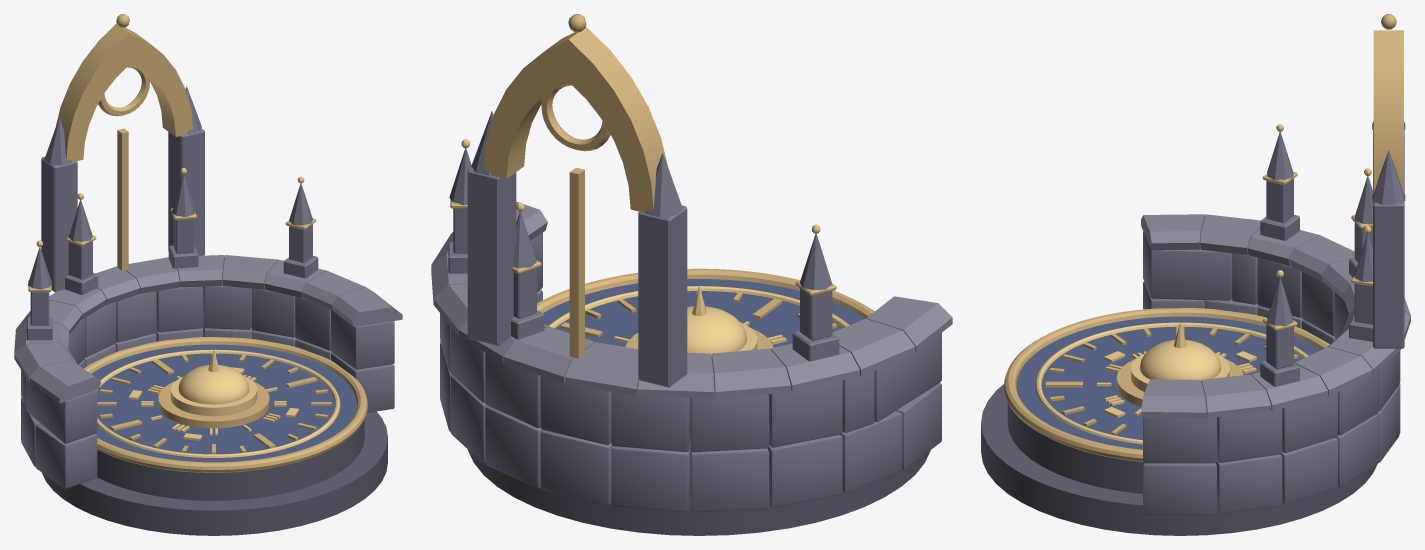
Rendered from Station.fbx.
3 views of the same model, side by side, from view 1: azimuth 30°, elevation 25°; view 2: azimuth 150°, elevation 25°; view 3: azimuth 270°, elevation 25° (orthographic). The views are drawn at different scales.
Parts seen in each view (by area): view 1: Rim_Station; view 2: Rim_Station; view 3: Rim_Station.
Part boxes in pixels (x1=…): Rim_Station: x1=14, y1=14, x2=402, y2=535; Rim_Station: x1=431, y1=14, x2=952, y2=535; Rim_Station: x1=981, y1=14, x2=1410, y2=535.
Size of the model in its own units: 5.17 by 5.44 by 4.85.
